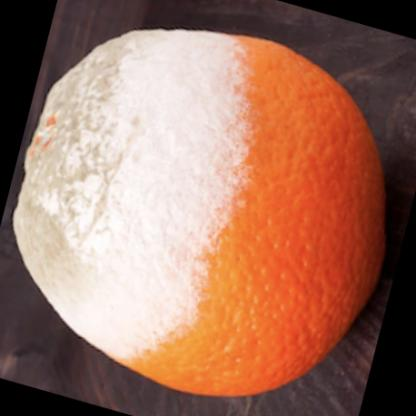rotten: (16, 31, 385, 398)
